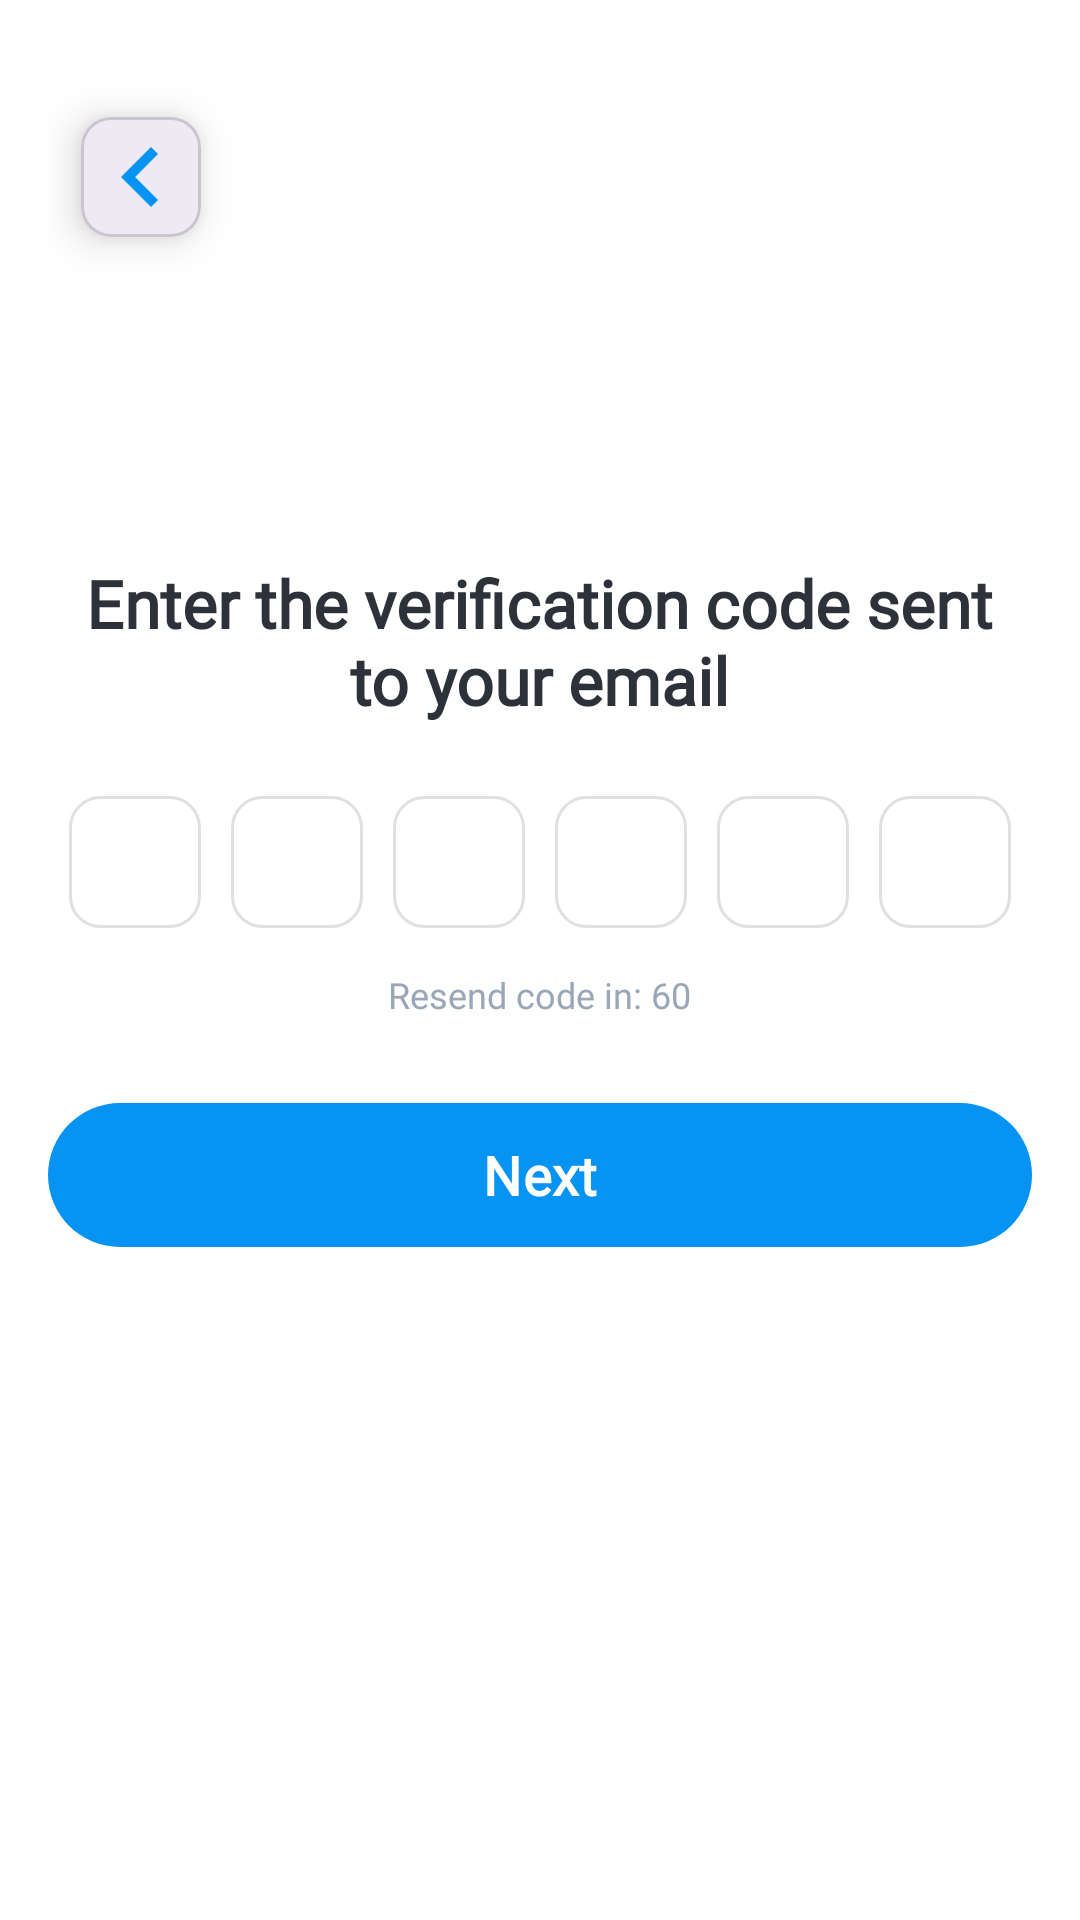

Named icons in this screenshot (1080x1920) and their centers, point (x, y):
Back: point (141, 177)
